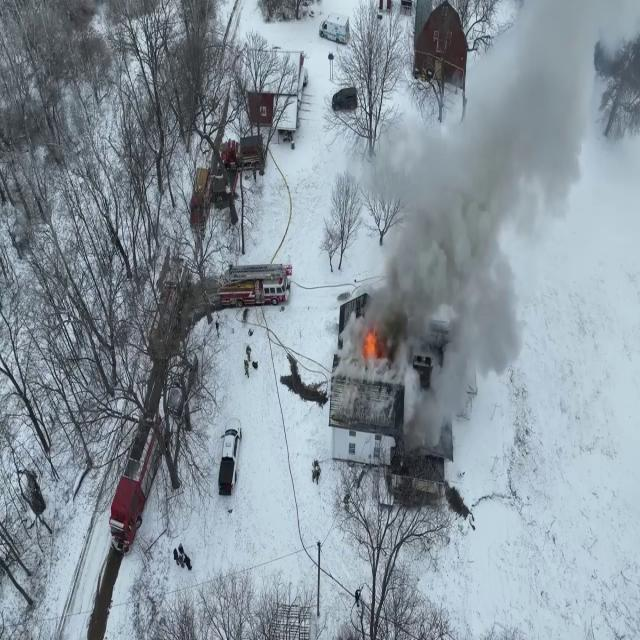Fire: (358, 315, 384, 364)
Smoke: (356, 11, 596, 464)
